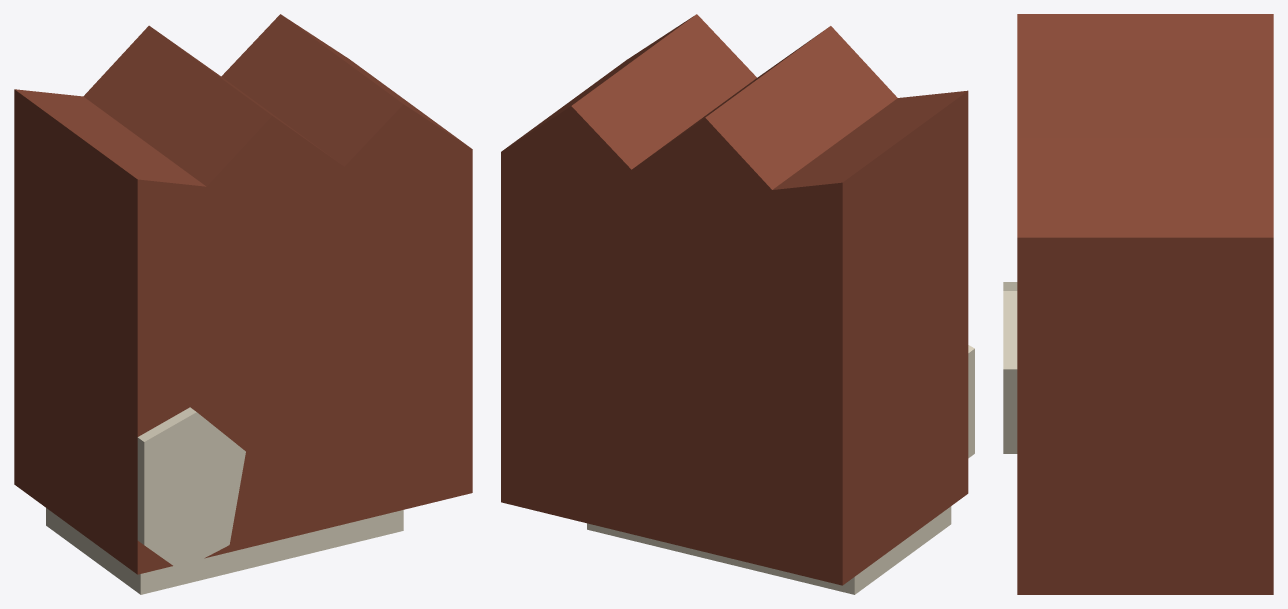
File: brick.glb
The picture shows the model from 3 angles, left to right: view 1: azimuth 30°, elevation 25°; view 2: azimuth 150°, elevation 25°; view 3: azimuth 270°, elevation 25°; orthographic projection. The views are drawn at different scales.
Visible parts, largest first — view 1: brick; view 2: brick; view 3: brick.
Boxes of the visible parts, x1,y1,x2,y2 form: brick: (14,14,472,594); brick: (501,14,974,594); brick: (1003,14,1273,594).
Bounding box in the file's own units: 0.102 × 0.132 × 0.0685.
